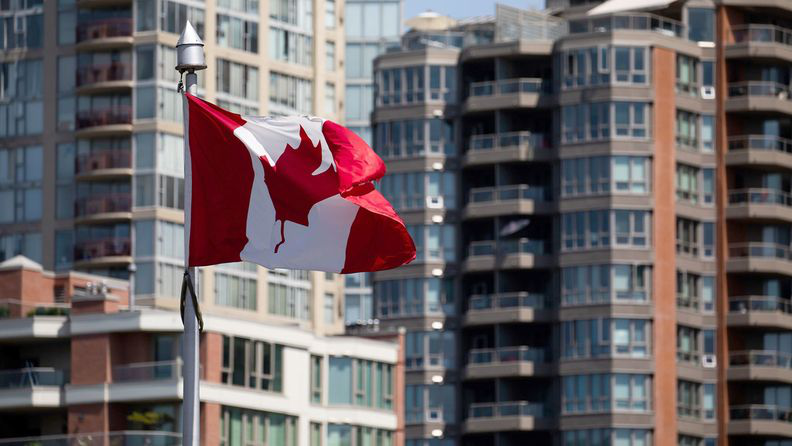Canada flag: (184, 94, 423, 278)
